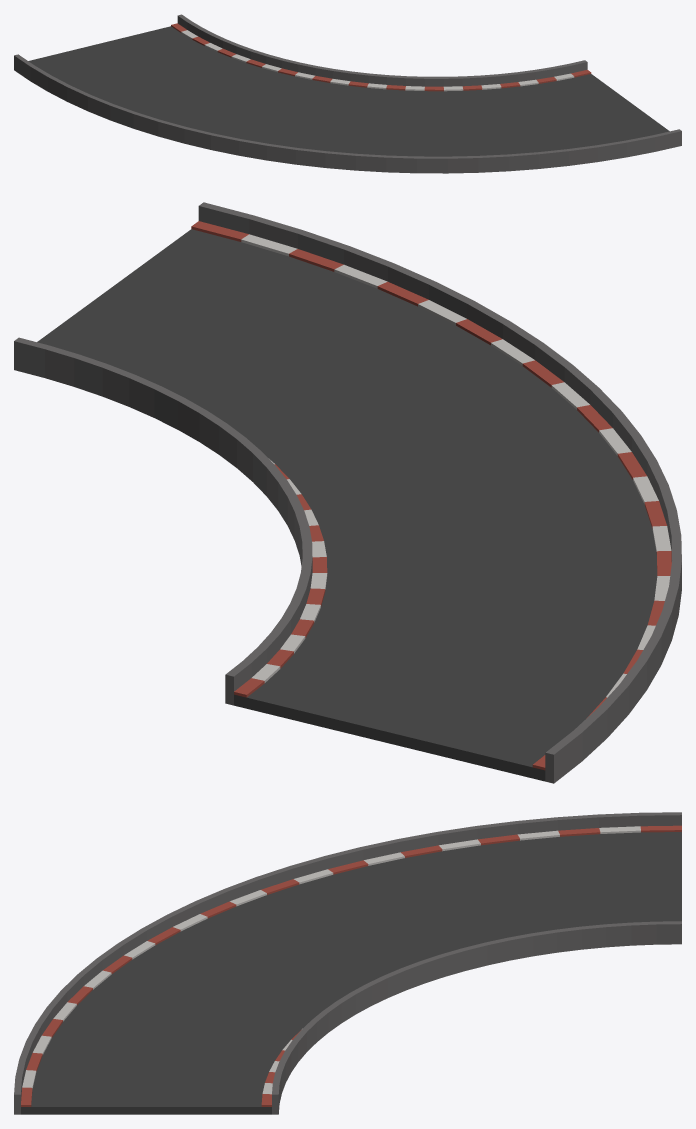
File: tp-corner-small.glb
3 renders of one model, top to bottom at view 1: azimuth 30°, elevation 25°; view 2: azimuth 150°, elevation 25°; view 3: azimuth 270°, elevation 25°, orthographic. The views are drawn at different scales.
Visible parts, largest first — view 1: tp-corner-small; view 2: tp-corner-small; view 3: tp-corner-small.
Boxes of the visible parts, x1,y1,x2,y2 form: tp-corner-small: (14, 14, 681, 173); tp-corner-small: (14, 202, 681, 783); tp-corner-small: (14, 812, 681, 1114).
Size of what is drawn, in the model's own units: 38.92 by 1.3 by 38.92.
1 material, 1 textured.
